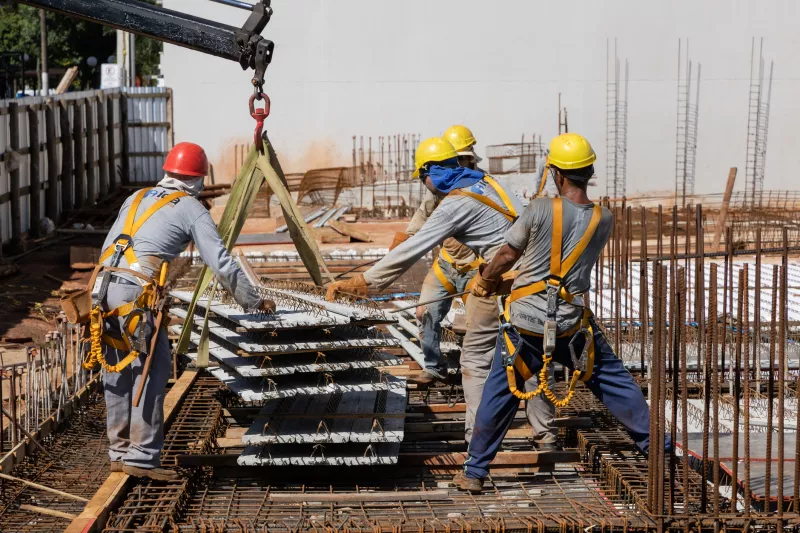Casco de seguridad: (412, 137, 456, 176), (548, 133, 595, 169), (163, 142, 208, 177), (442, 125, 475, 151)
